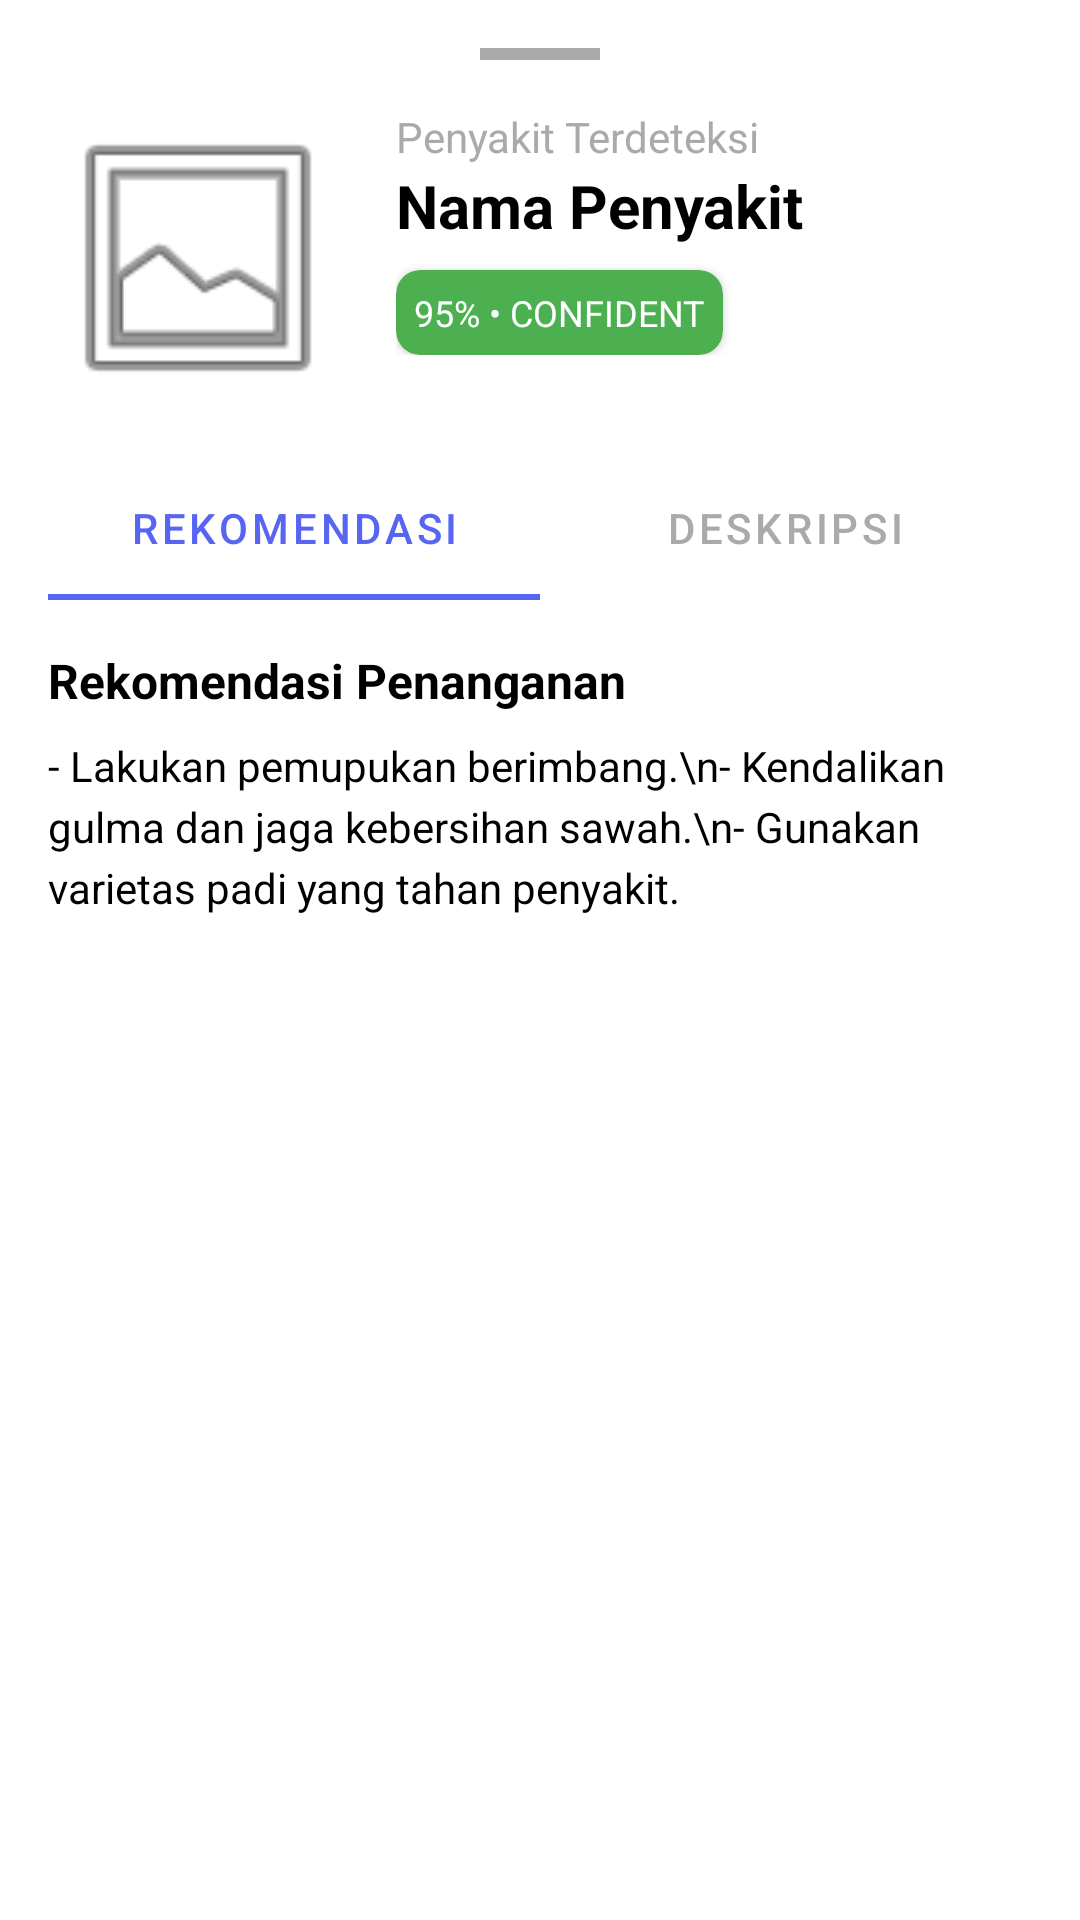

Where to tap for icons on this 1080px×1920px app screen, as [x,y]:
gallery: [198,258]
